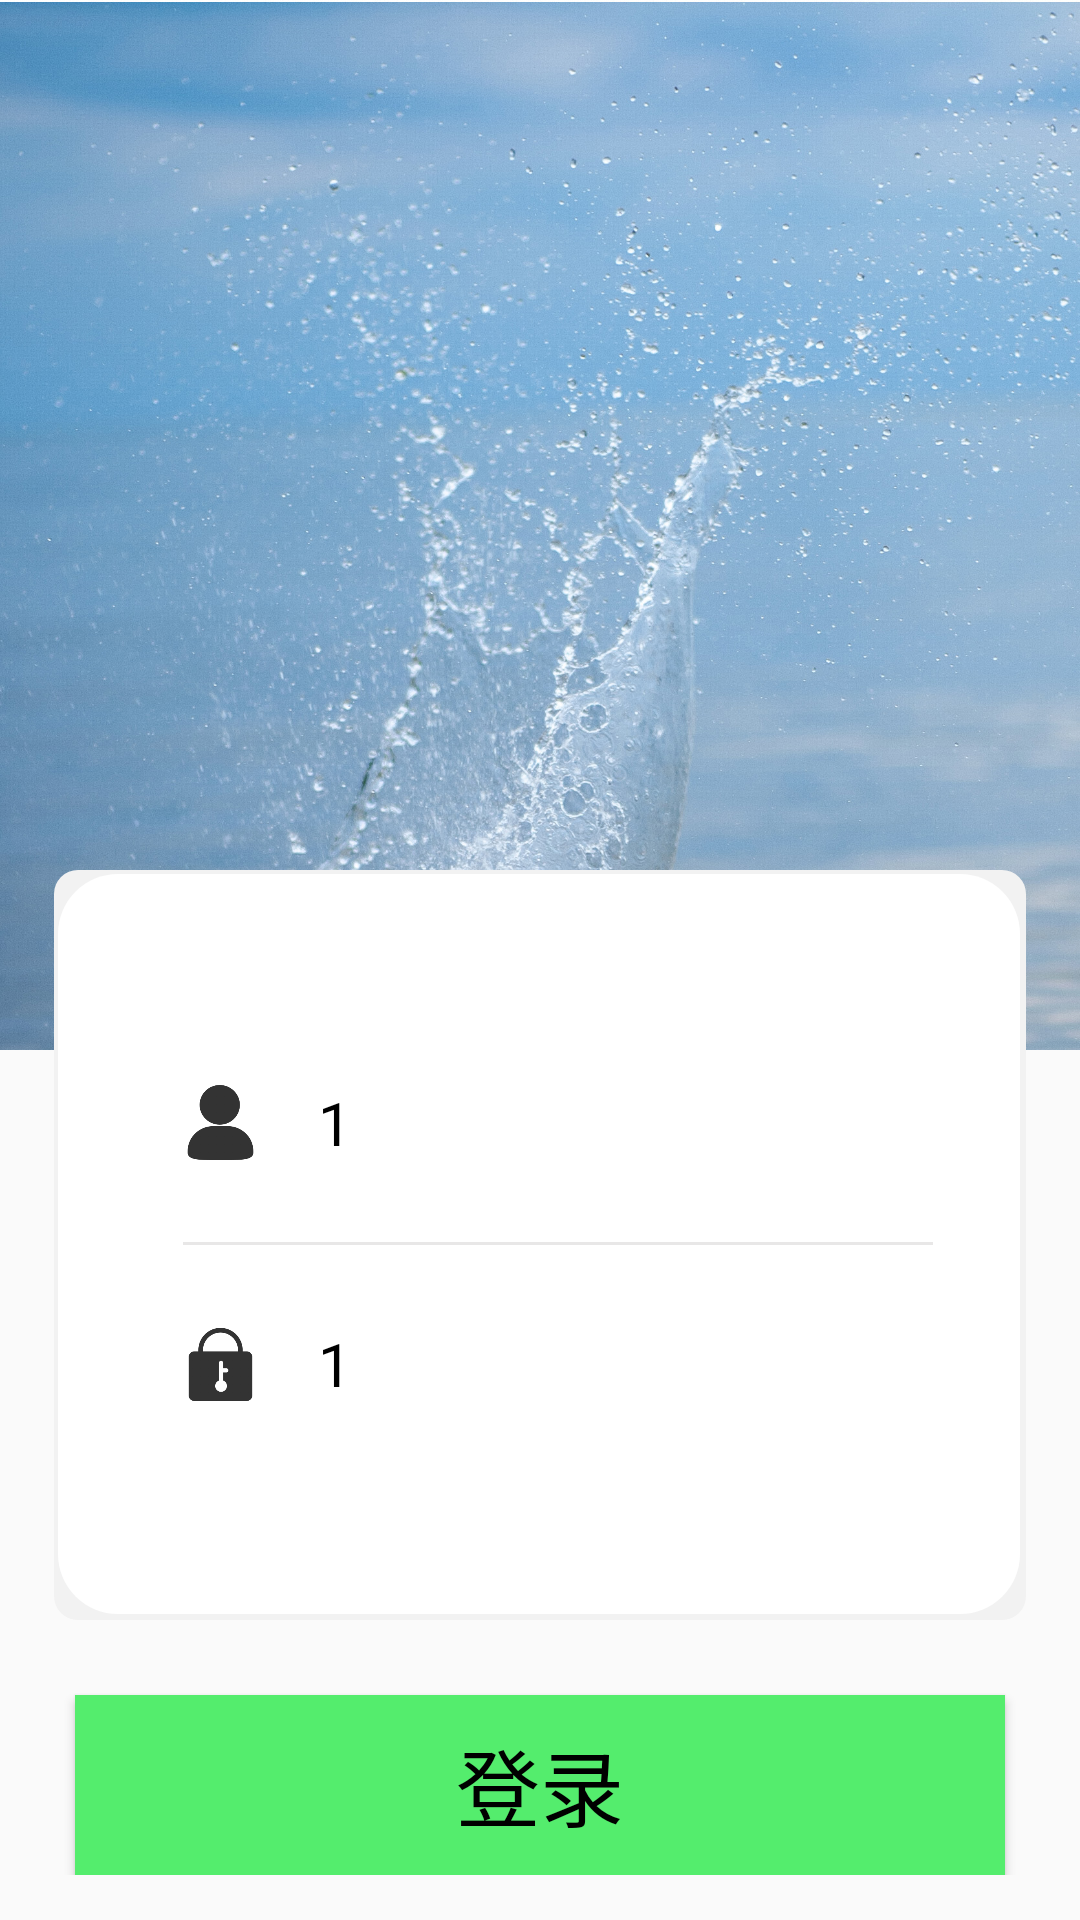

Screen size 1080 × 1920. Icon name, then its center in pixels as (x=x, y=y):
denglu: (x=220, y=1122)
mima: (x=220, y=1364)
